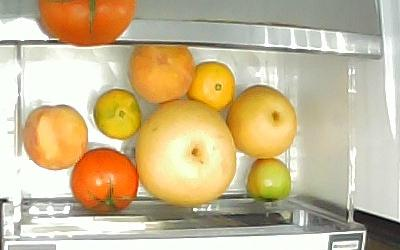peach: (22, 103, 88, 170), (126, 44, 195, 102)
pear: (132, 97, 237, 206), (225, 83, 297, 158)
tangerine: (92, 87, 142, 139), (185, 60, 235, 109)
tomato: (69, 146, 140, 212), (245, 157, 291, 202)
